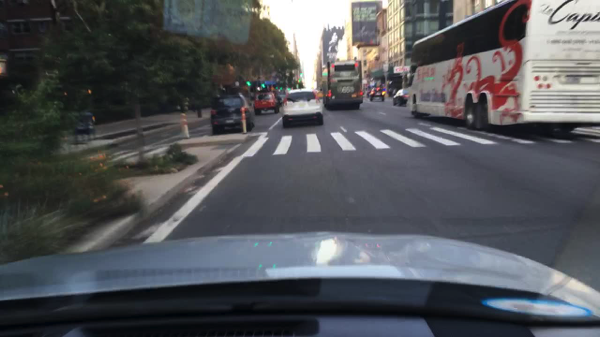bus: (403, 0, 598, 136), (320, 59, 364, 111)
car: (209, 92, 256, 135), (279, 87, 324, 128), (66, 110, 96, 134), (252, 92, 279, 114), (390, 88, 411, 108), (367, 87, 385, 104), (276, 94, 286, 108)
traffic light: (87, 88, 93, 96), (245, 80, 250, 87), (261, 83, 266, 89), (299, 74, 303, 79)
